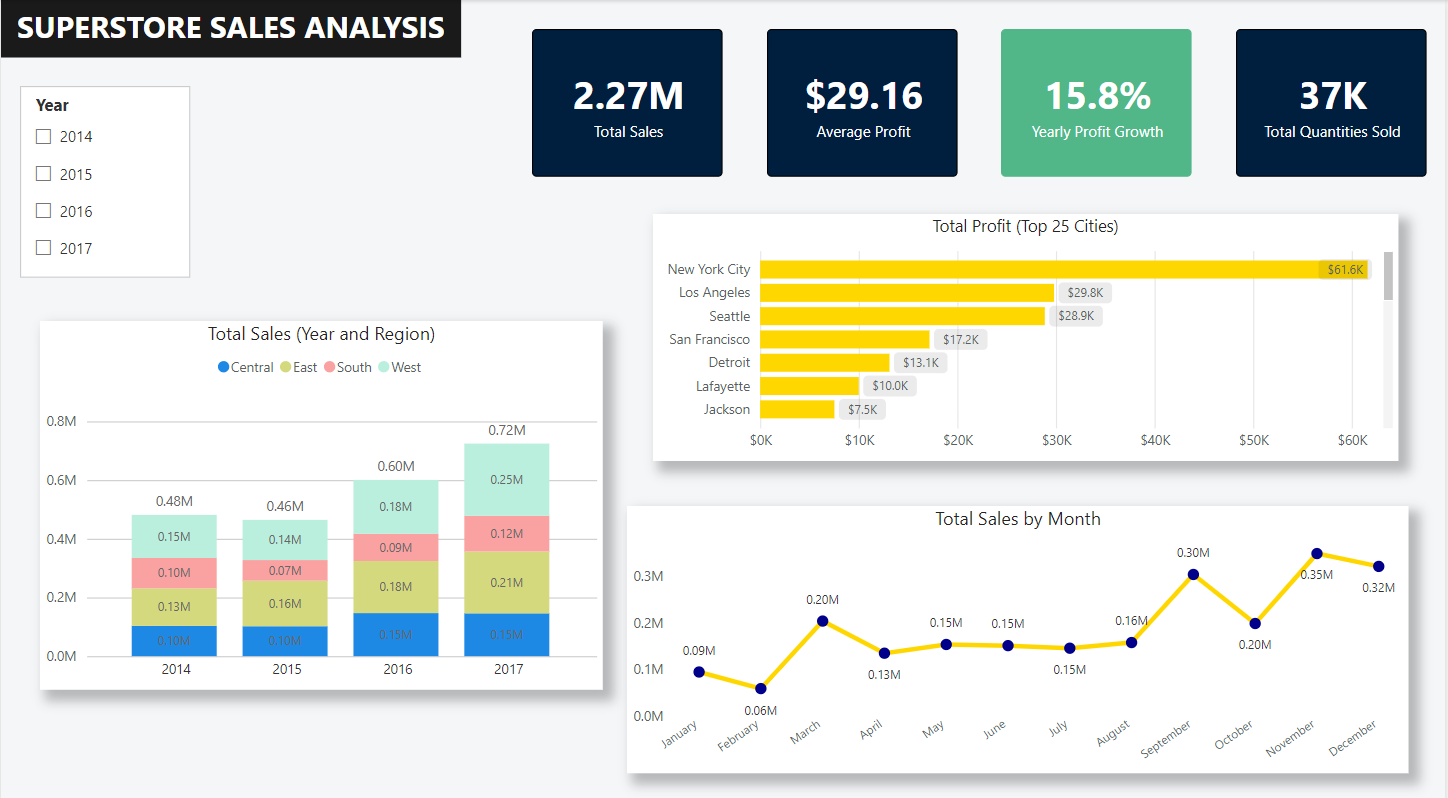

The page's visual inventory and layout, read from the dashboard file:
{"tool":"powerbi","page":{"name":"Product Dashboard","canvas":[1280,720],"ordinal":0},"visuals":[{"type":"textbox","box":[0,0,407.5,50.6],"z":0},{"type":"card","fields":{"Values":["superstore superstore_sales.Total Sales"]},"box":[470.8,25.3,169.2,131.3],"z":1000},{"type":"card","fields":{"Values":["superstore superstore_sales.Average Profit"]},"box":[678.9,25.3,169.2,131.3],"z":2000},{"type":"card","fields":{"Values":["superstore superstore_sales.Yearly Profit Growth"]},"box":[887.1,25.3,169.2,131.3],"z":3000},{"type":"slicer","fields":{"Values":["superstore superstore_sales.Order Year"]},"box":[16.5,75.9,150.8,170.2],"z":4000},{"type":"card","fields":{"Values":["superstore superstore_sales.Total Quantities Sold"]},"box":[1095.2,25.3,169.2,131.3],"z":5000},{"type":"columnChart","title":"Total Sales (Year and Region)","fields":{"Y":["superstore superstore_sales.Total Sales"],"Series":["superstore superstore_sales.Region"],"Category":["superstore superstore_sales.Order_Date.Variation.Date Hierarchy.Year","superstore superstore_sales.Order_Date.Variation.Date Hierarchy.Quarter","superstore superstore_sales.Order_Date.Variation.Date Hierarchy.Month","superstore superstore_sales.Order_Date.Variation.Date Hierarchy.Day"]},"box":[34.6,284.6,499.2,327.2],"z":6000},{"type":"barChart","title":"Total Profit (Top 25 Cities)","fields":{"Category":["superstore superstore_sales.City"],"Y":["superstore superstore_sales.Total Profit"]},"box":[578.1,189.8,660.6,219],"z":7000},{"type":"lineChart","fields":{"Y":["superstore superstore_sales.Total Sales"],"Category":["superstore superstore_sales.Order_Date.Variation.Date Hierarchy.Month"]},"box":[555.4,448.4,693.5,237.3],"z":8000}]}

Visuals, with their boxes in screenshot pixels (x1, y1, x2, y2), scaled from the page's 1280x720 canvas onto the 1448x798 screenshot:
textbox: [0,0,461,56]
card - superstore superstore_sales.Total Sales: [533,28,724,174]
card - superstore superstore_sales.Average Profit: [768,28,959,174]
card - superstore superstore_sales.Yearly Profit Growth: [1004,28,1195,174]
slicer - superstore superstore_sales.Order Year: [19,84,189,273]
card - superstore superstore_sales.Total Quantities Sold: [1239,28,1430,174]
"Total Sales (Year and Region)" columnChart: [39,315,604,678]
"Total Profit (Top 25 Cities)" barChart: [654,210,1401,453]
lineChart - superstore superstore_sales.Total Sales x superstore superstore_sales.Order_Date.Variation.Date Hierarchy.Month: [628,497,1413,760]
